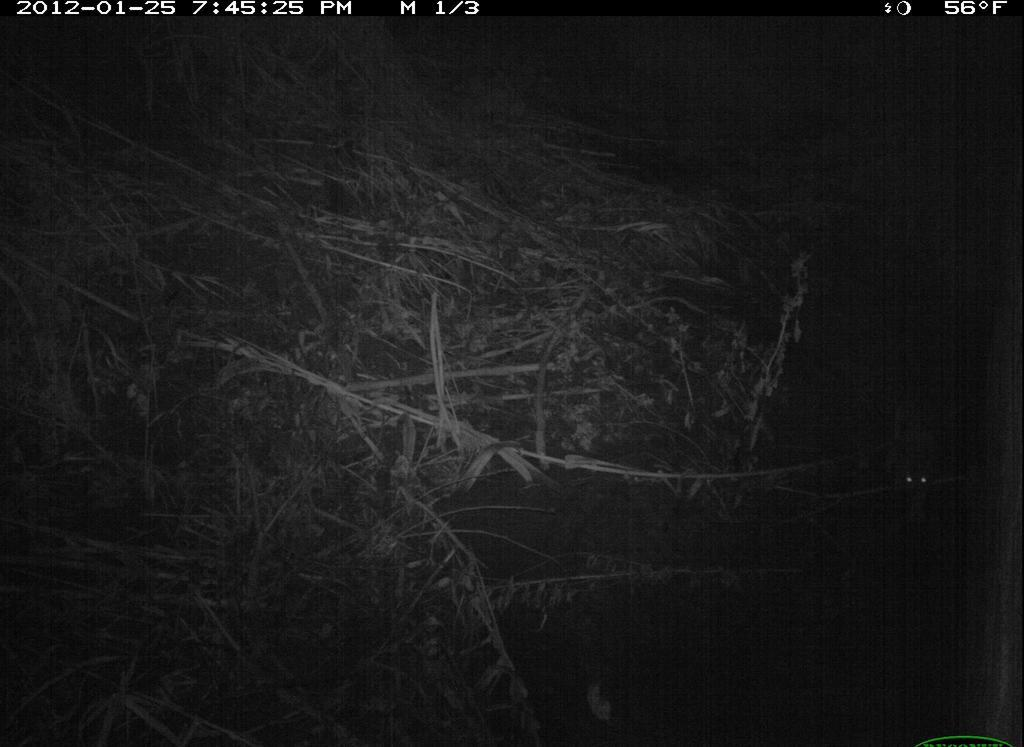bobcat: (888, 383, 952, 541)
